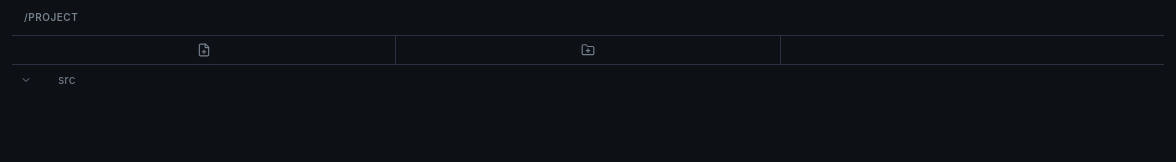
Test: FileTree — context menu › shows New file + New folder for a directory
Right-click the button "src".
right_click(26, 80)  # box [12,69,1164,91]
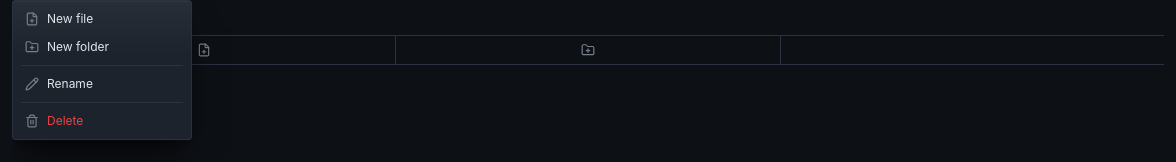
Now the text "New file" is shown, box [47,11,93,26]
Now the text "New folder" is shown, box [47,39,109,54]
